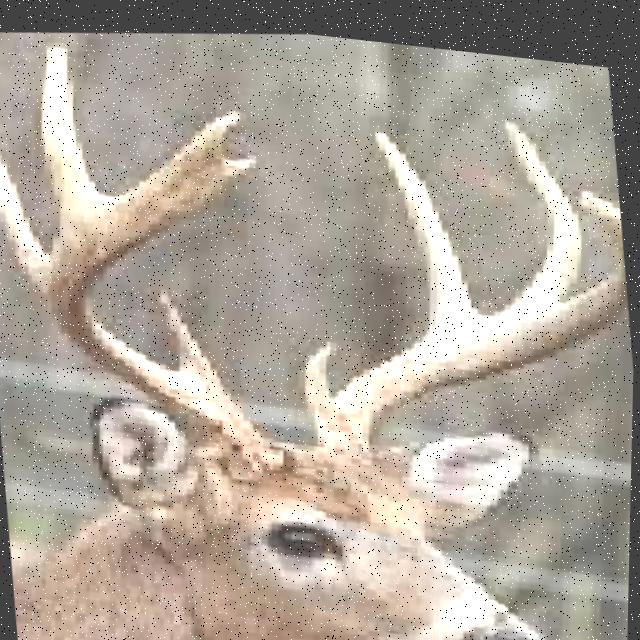E1: (171, 104, 241, 152)
L-F: (42, 146, 286, 468)
L-G1: (160, 285, 231, 391)
R-F: (320, 173, 630, 448)
R-G1: (305, 332, 339, 413)
R-G2: (375, 121, 479, 320)
R-G3: (503, 108, 583, 300)
